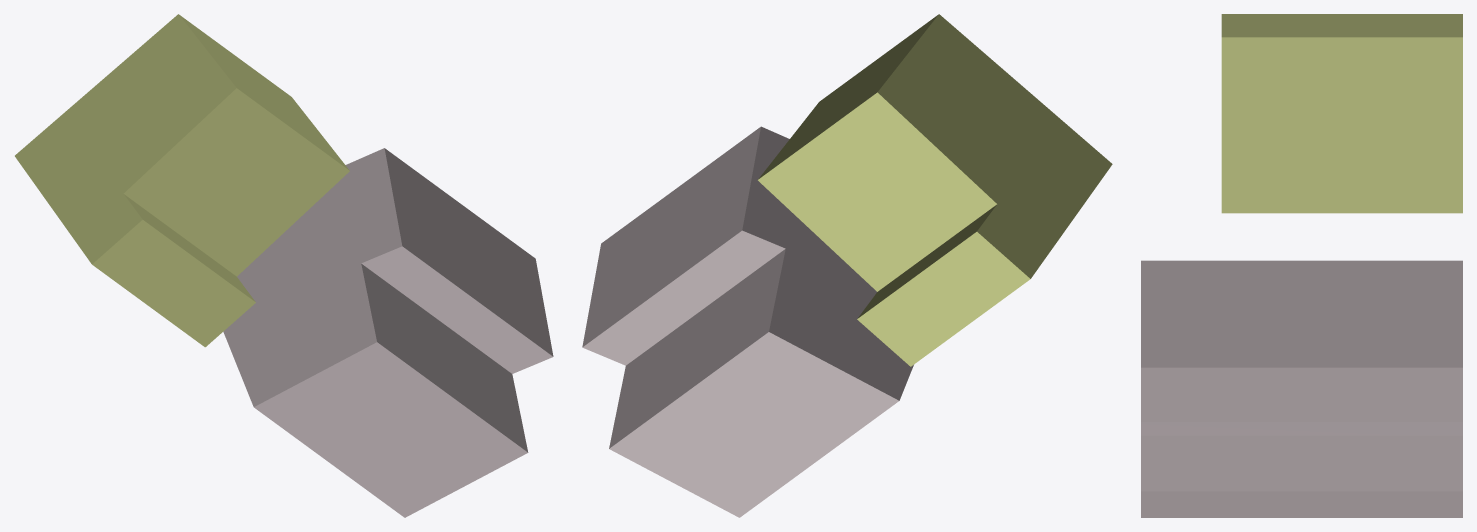
The picture shows the model from 3 angles, left to right: view 1: azimuth 30°, elevation 25°; view 2: azimuth 150°, elevation 25°; view 3: azimuth 270°, elevation 25°; orthographic projection. The views are drawn at different scales.
Parts seen in each view (by area): view 1: 0_2_2_0_3_3_3_1_0_2; view 2: 0_2_2_0_3_3_3_1_0_2; view 3: 0_2_2_0_3_3_3_1_0_2.
Boxes of the visible parts, bbox=[...] form: 0_2_2_0_3_3_3_1_0_2: bbox=[15, 14, 553, 517]; 0_2_2_0_3_3_3_1_0_2: bbox=[582, 14, 1112, 517]; 0_2_2_0_3_3_3_1_0_2: bbox=[1141, 14, 1462, 517].
Size of the model in its own units: 17.78 by 18.03 by 12.
